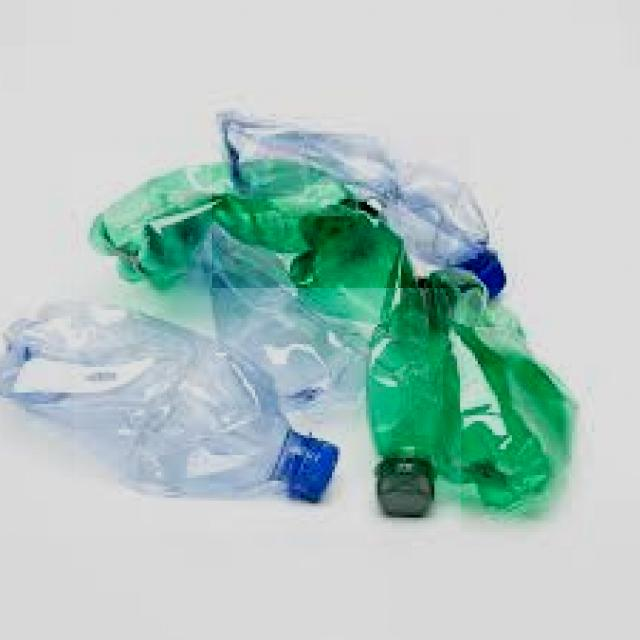bottle: (72, 151, 460, 531), (0, 296, 337, 534), (212, 113, 518, 288)
